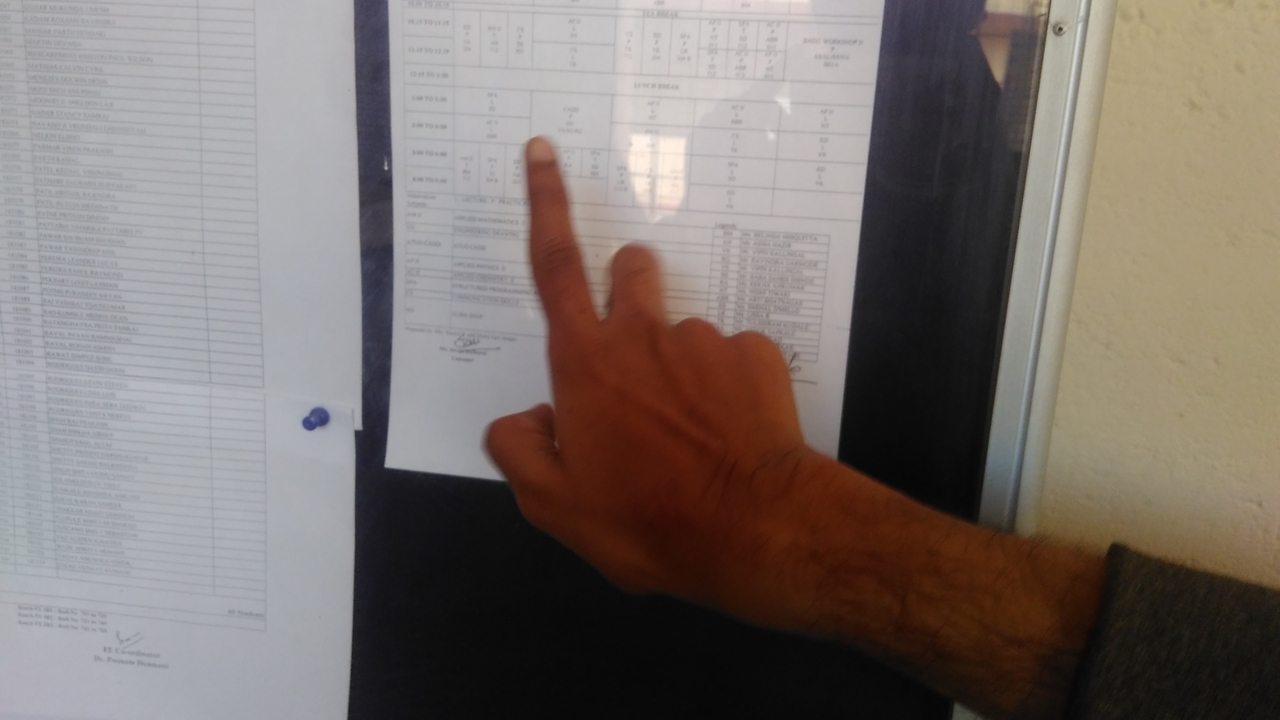fingertip: (518, 130, 568, 170)
